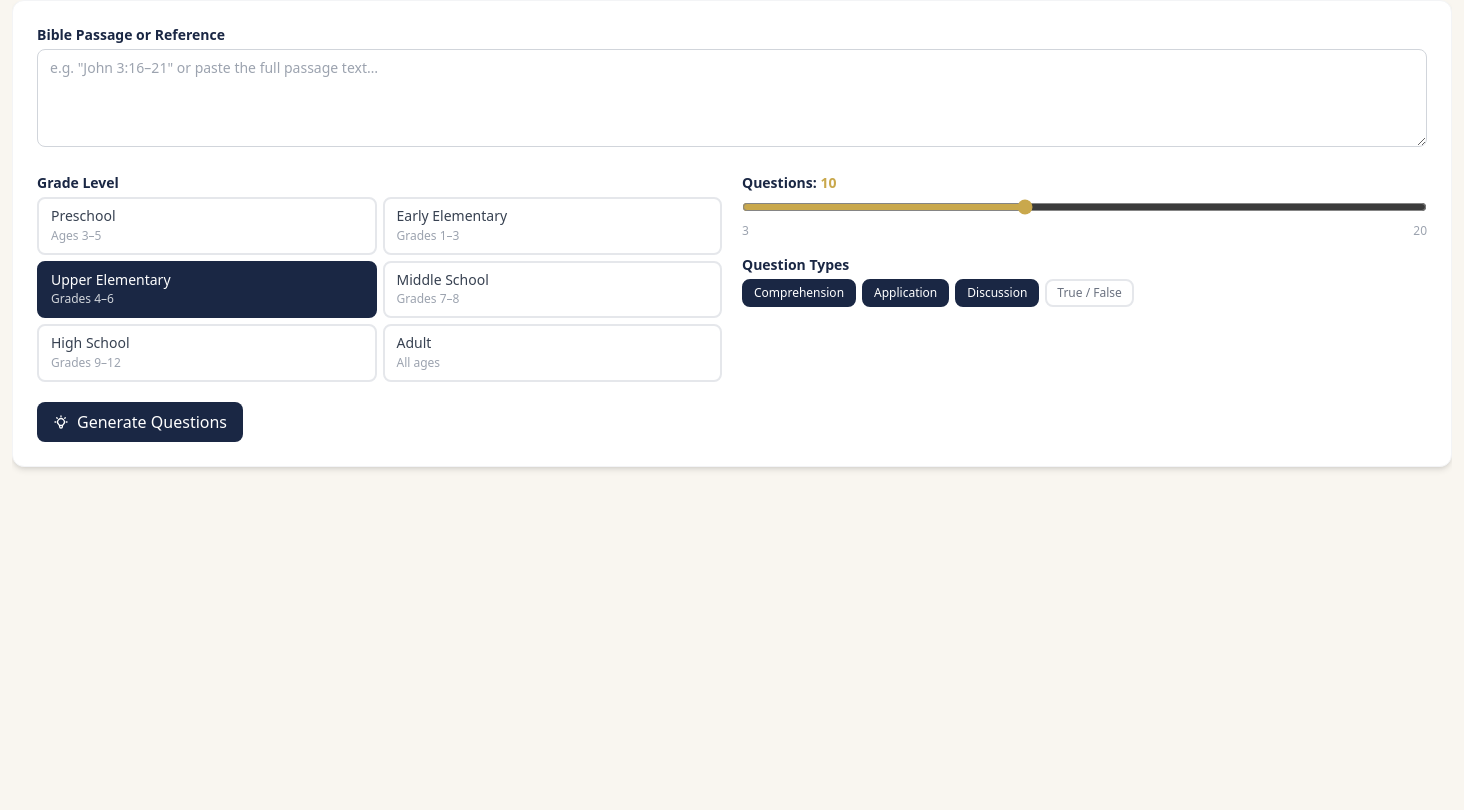
Scenario: QuestionGenerator › the answer is hidden until revealed
The width and height of the screenshot is (1464, 810).
In the text box with placeholder "e.g. \"John 3:16–21\" or paste the full passage text…": (732, 98) [37,49,1427,147], type "Genesis 6"
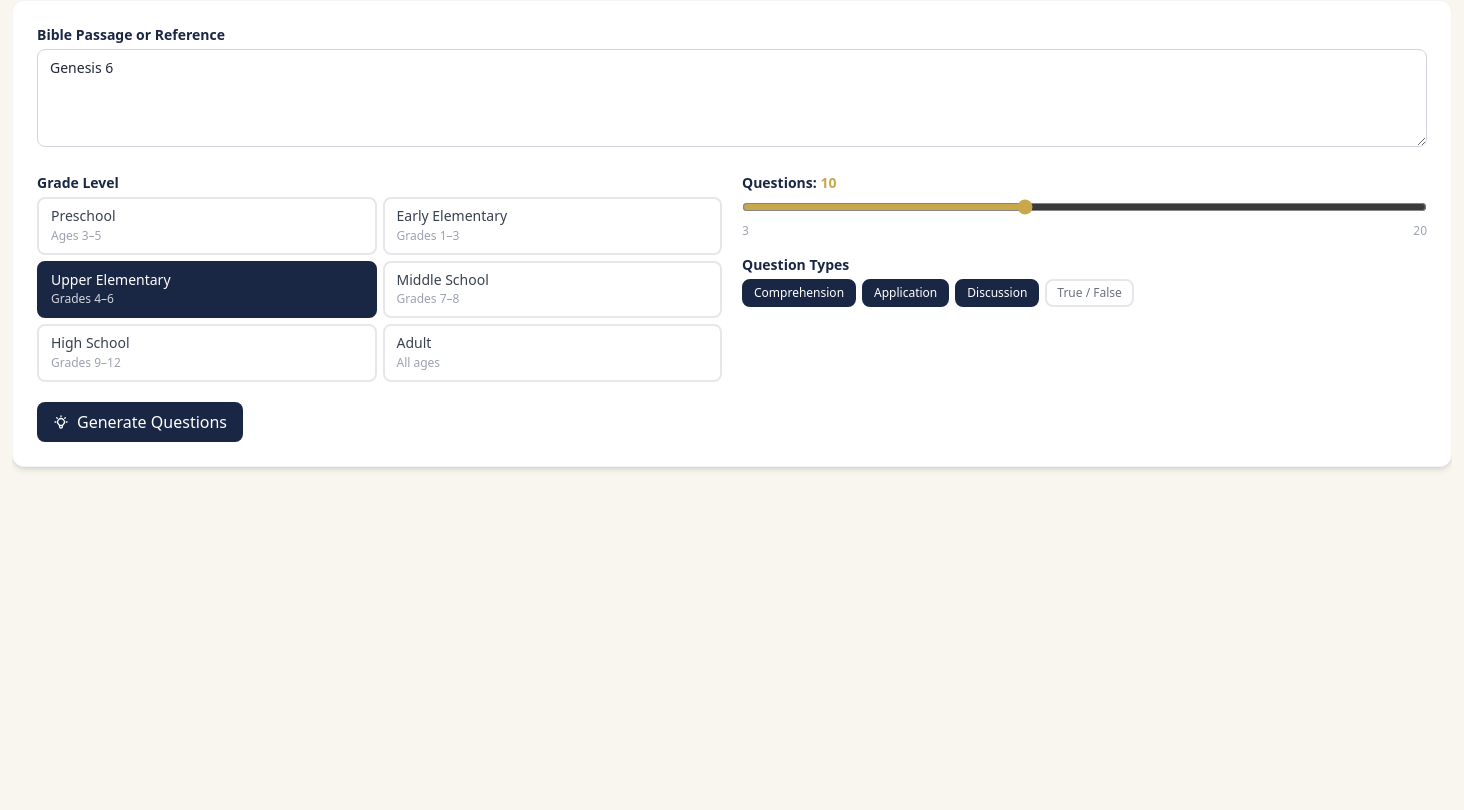
Click the button "Generate Questions": (140, 422) [37,402,243,442]
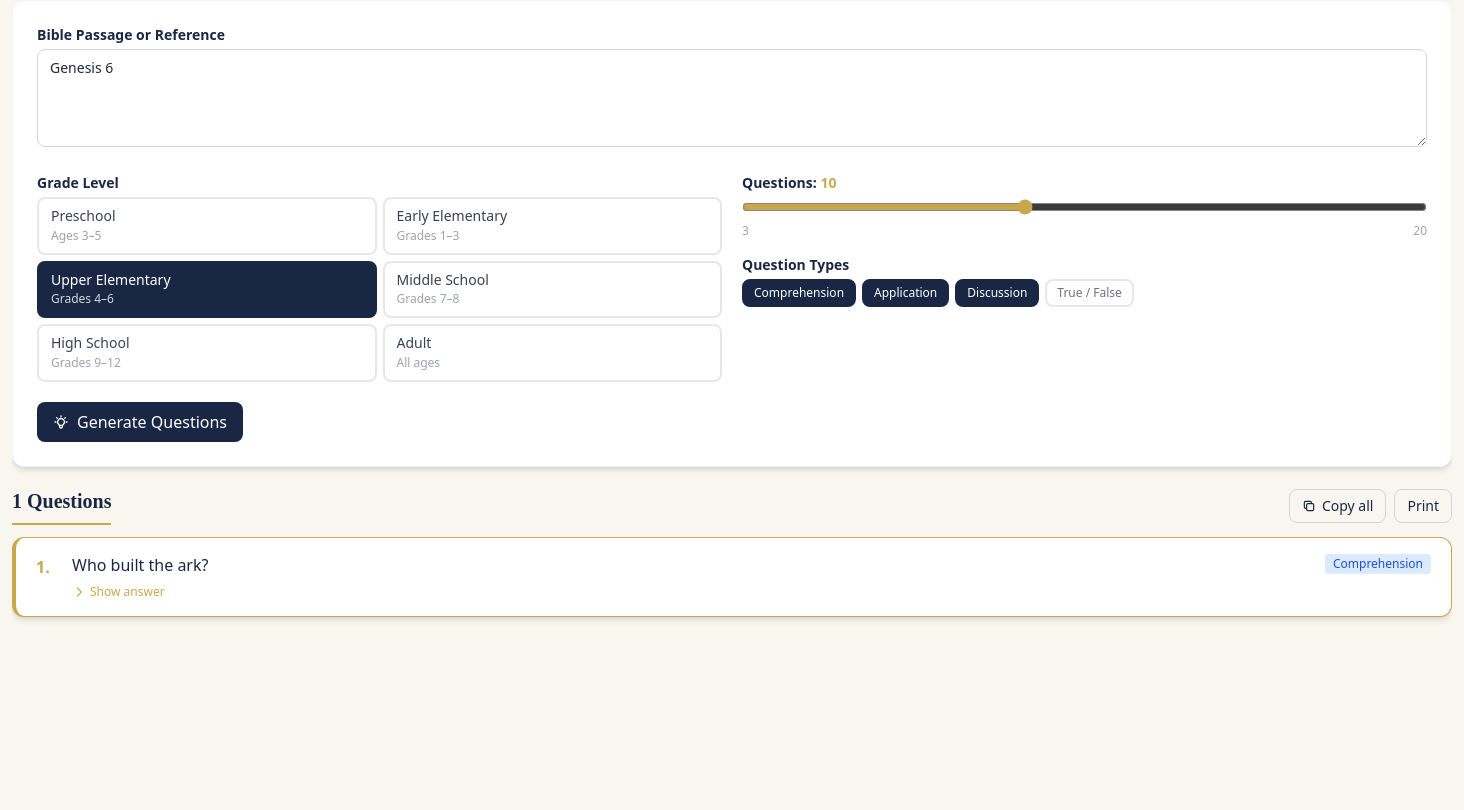
Expected: the text "Noah" is not shown
Now the text "Who built the ark?" is shown, box [72,554,208,576]
Click the button "Show answer": (118, 592) [72,584,165,600]
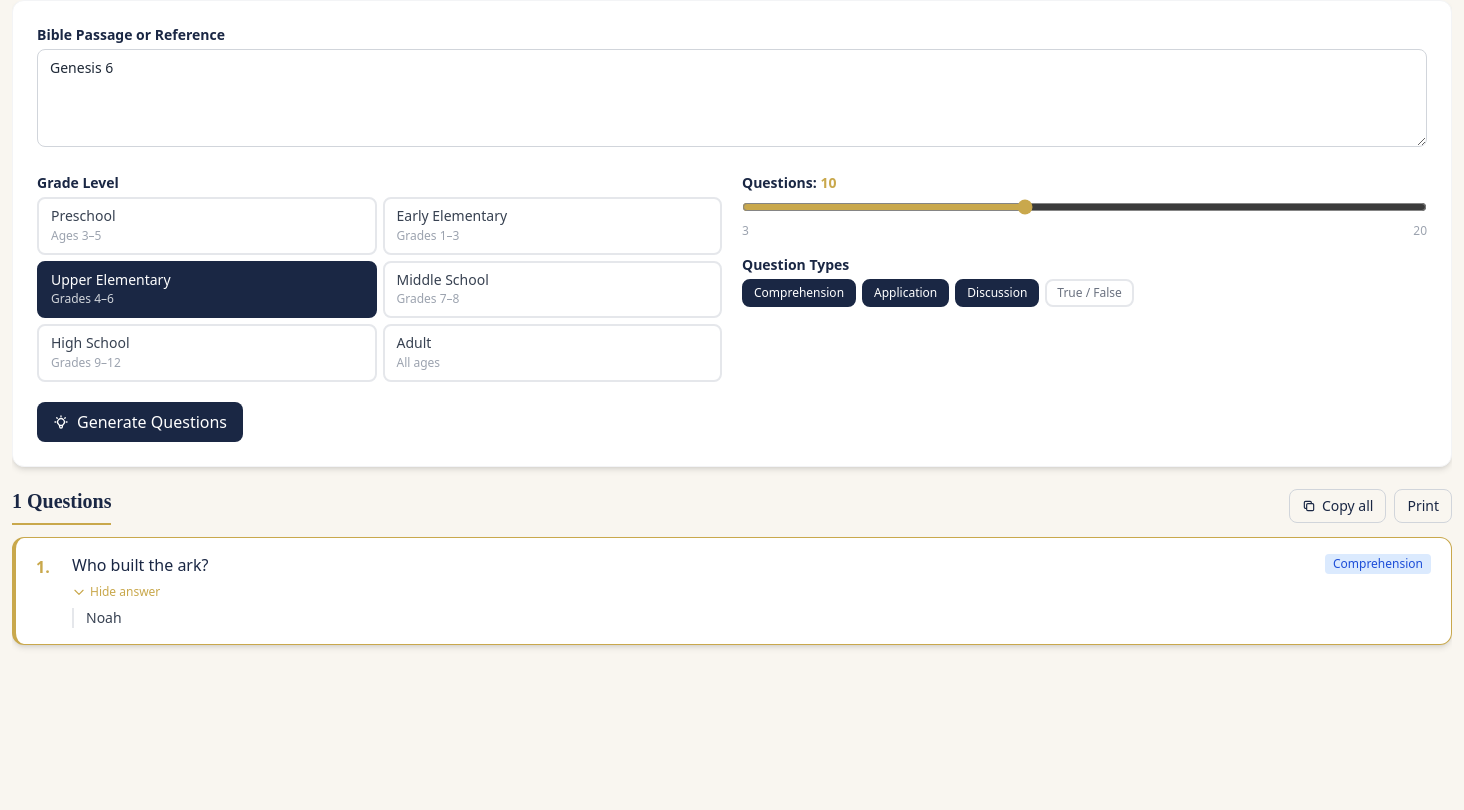
Now the text "Noah" is shown, box [86,608,122,626]
